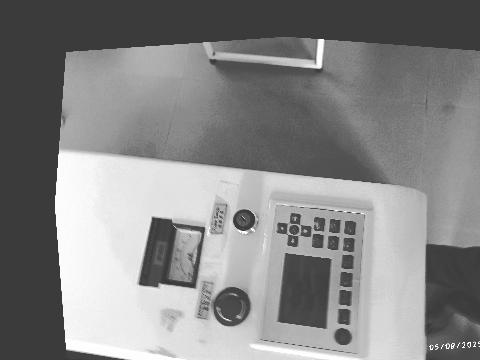Amp_Meter: (165, 226, 203, 285)
Display: (279, 254, 330, 328)
Down_button: (301, 226, 311, 237)
Emergency_Stop: (213, 287, 250, 326)
Enter_button: (314, 217, 325, 231)
Esc_button: (312, 234, 323, 248)
File_button: (343, 238, 354, 252)
Frame_button: (329, 219, 340, 233)
Left_button: (287, 235, 298, 247)
Max-Power_button: (342, 255, 353, 269)
Min-Power_button: (340, 272, 351, 287)
Origin_button: (328, 236, 339, 250)
Power_switch: (233, 210, 258, 234)
Pulse_button: (339, 309, 349, 325)
Reset_button: (336, 328, 350, 345)
Right_button: (290, 213, 301, 224)
Speed_button: (340, 290, 350, 305)
Start-Pause_button: (344, 221, 356, 235)
Up_button: (276, 223, 287, 234)
Z_U_button: (290, 225, 299, 235)
